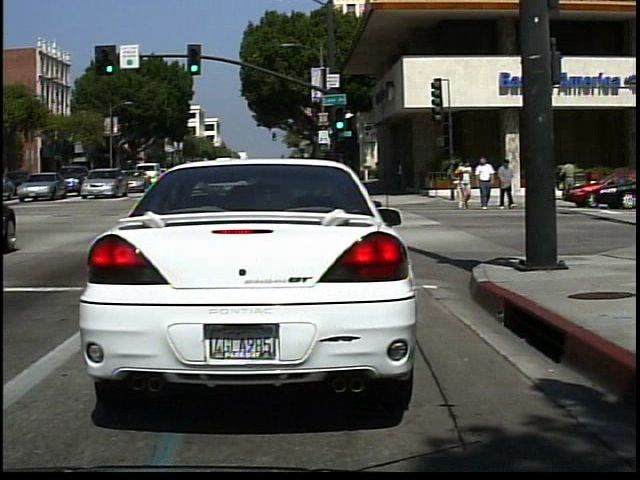person: (474, 154, 499, 213), (497, 155, 521, 210), (558, 156, 581, 203), (452, 164, 472, 212), (461, 157, 479, 210)
